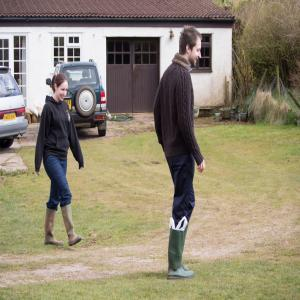Vehicle-registration-plate: (5, 114, 17, 122), (65, 100, 73, 109)
